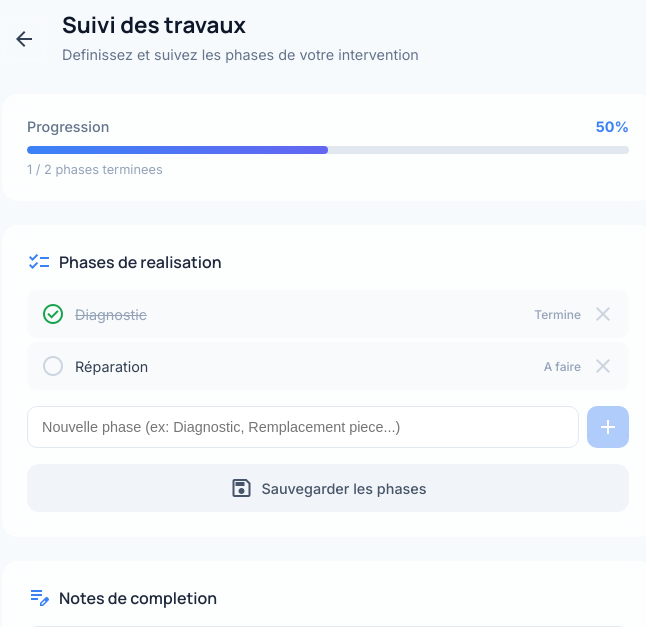
Test: MissionCompletion › ajoute une phase (clic ou touche Entrée) et ignore un libellé vide
The width and height of the screenshot is (646, 627).
Expected: the text "Diagnostic" is shown, [75, 306, 147, 323]
Expected: the button with class "mc-add-btn" is disabled, [587, 406, 629, 448]
In the field with placeholder "Nouvelle phase (ex: Diagnostic, Remplacement piece...)": (303, 427) [27, 406, 579, 448], type "Essais"
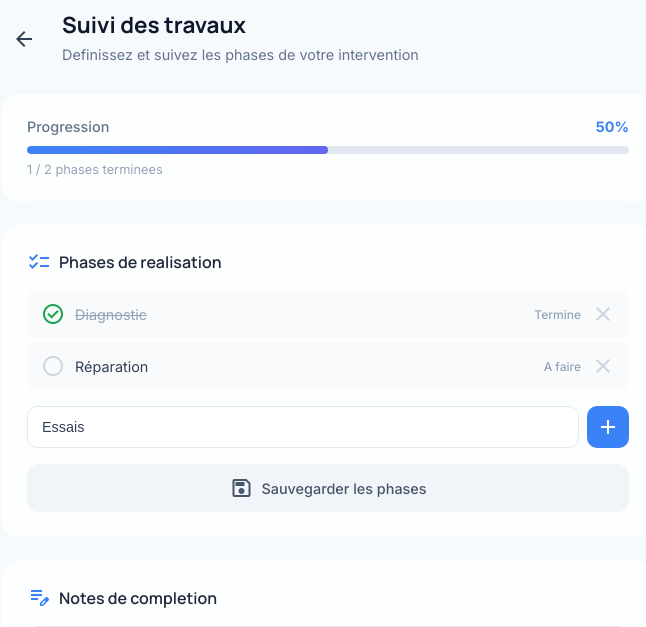
Click the button with class "mc-add-btn": click(608, 427) [587, 406, 629, 448]
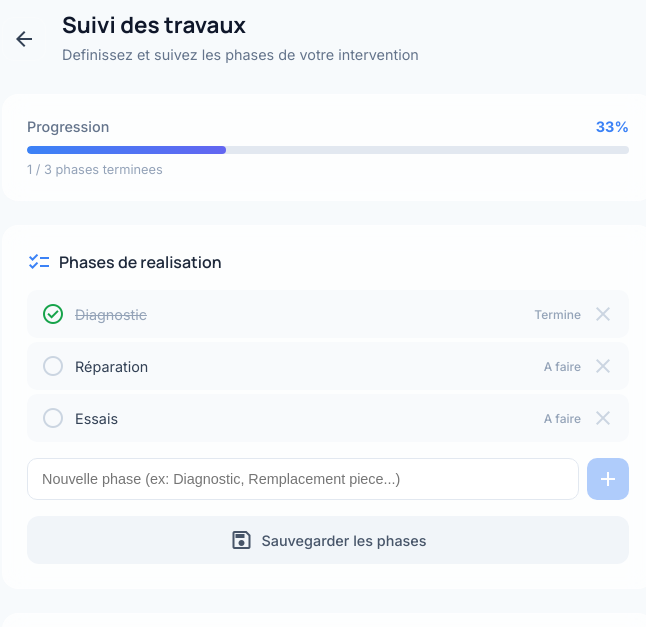
Expected: the text "Essais" is shown, [75, 410, 118, 427]
In the field with placeholder "Nouvelle phase (ex: Diagnostic, Remplacement piece...)": (303, 479) [27, 458, 579, 500], type "Nettoyage"
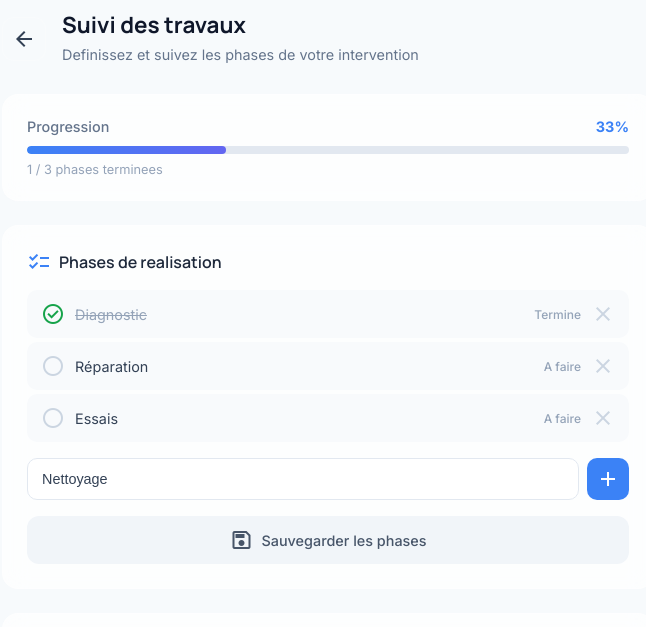
Press Enter in the field with placeholder "Nouvelle phase (ex: Diagnostic, Remplacement piece...)", box [27, 458, 579, 500]
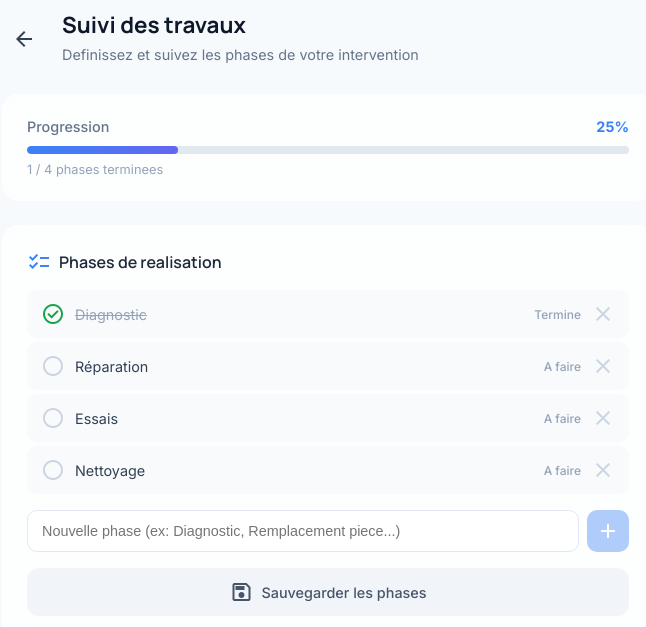
Expected: the text "Nettoyage" is shown, [75, 462, 145, 479]
Expected: the field with placeholder "Nouvelle phase (ex: Diagnostic, Remplacement piece...)" is empty, [27, 510, 579, 552]
Expected: the text with class "mc-progress-percent" reads "25%", [596, 115, 629, 138]
